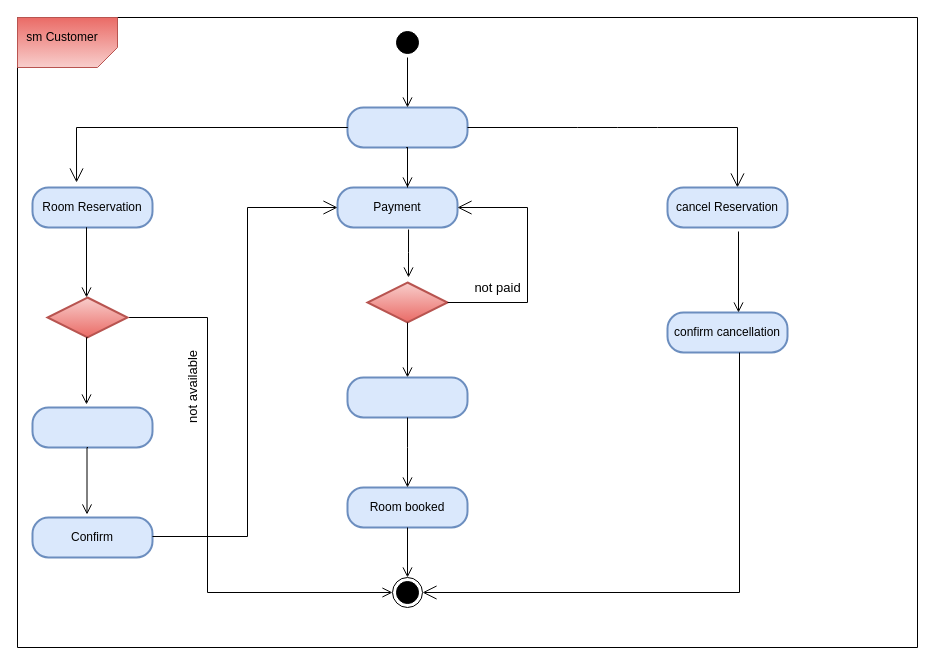
Some shapes in this 935 by 665 pixel diagram are drawn without their labels. Each missing label, with the centre of its shape:
available: (92,427)
Customer: (407,127)
Paid: (407,397)
